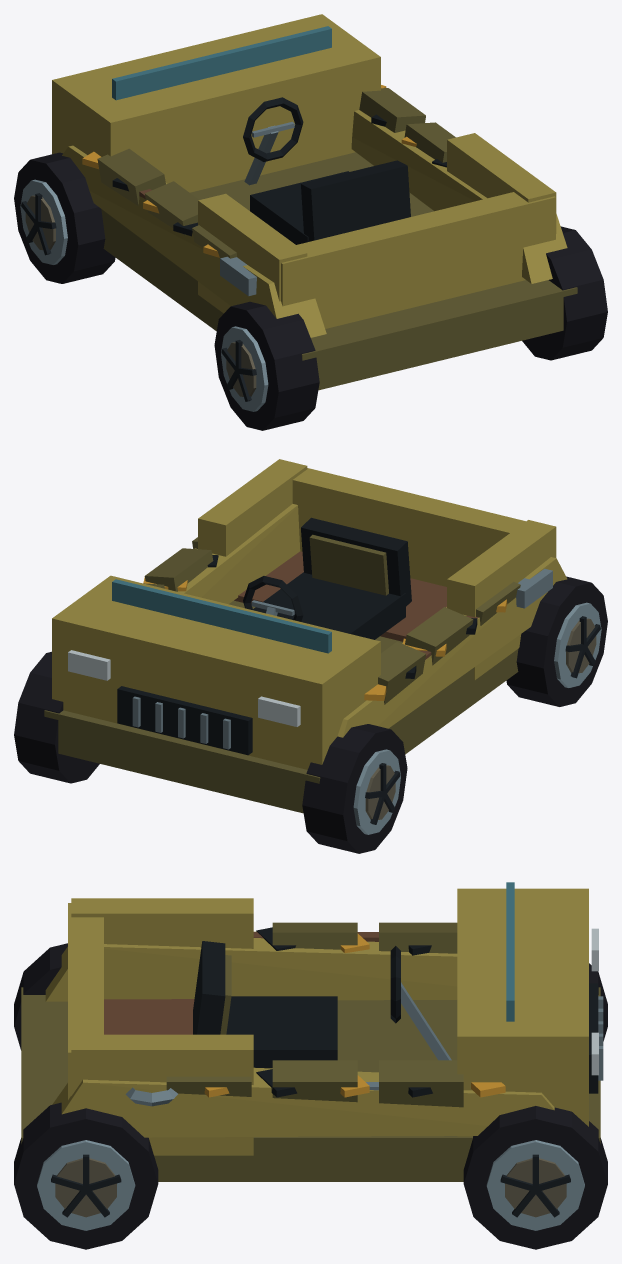
File: kart.glb
3 views of the same model, one above another, from view 1: azimuth 30°, elevation 25°; view 2: azimuth 150°, elevation 25°; view 3: azimuth 270°, elevation 25° (orthographic). The views are drawn at different scales.
Visible parts, largest first — view 1: identity-truck-truck-utility-body, identity-truck-driver-cockpit, wheel-rear-left, wheel-front-left, identity-truck-motif-armor, wheel-rear-right, identity-truck-motif-hazard-stripes, identity-truck-motif-tools; view 2: identity-truck-truck-utility-body, identity-truck-driver-cockpit, wheel-front-left, wheel-rear-left, identity-truck-motif-armor, wheel-front-right, identity-truck-motif-hazard-stripes, identity-truck-motif-tools; view 3: identity-truck-truck-utility-body, wheel-front-right, wheel-rear-right, identity-truck-motif-armor, identity-truck-driver-cockpit, identity-truck-motif-hazard-stripes, wheel-rear-left, identity-truck-motif-tools.
Boxes of the visible parts, x1,y1,x2,y2 form: identity-truck-truck-utility-body: [52, 14, 577, 390]; identity-truck-driver-cockpit: [243, 97, 410, 244]; wheel-rear-left: [214, 301, 319, 430]; wheel-front-left: [14, 152, 115, 283]; identity-truck-motif-armor: [97, 88, 455, 258]; wheel-rear-right: [522, 226, 607, 360]; identity-truck-motif-hazard-stripes: [82, 85, 446, 257]; identity-truck-motif-tools: [139, 189, 256, 296]; identity-truck-truck-utility-body: [44, 459, 567, 813]; identity-truck-driver-cockpit: [243, 517, 411, 639]; wheel-front-left: [302, 724, 407, 853]; wheel-rear-left: [506, 576, 607, 706]; identity-truck-motif-armor: [143, 537, 520, 704]; wheel-front-right: [14, 651, 99, 783]; identity-truck-motif-hazard-stripes: [143, 555, 507, 700]; identity-truck-motif-tools: [419, 568, 552, 659]; identity-truck-truck-utility-body: [21, 882, 603, 1181]; wheel-front-right: [463, 1106, 607, 1249]; wheel-rear-right: [14, 1102, 158, 1249]; identity-truck-motif-armor: [166, 922, 463, 1107]; identity-truck-driver-cockpit: [193, 941, 451, 1068]; identity-truck-motif-hazard-stripes: [204, 927, 505, 1097]; wheel-rear-left: [14, 943, 67, 1050]; identity-truck-motif-tools: [125, 932, 378, 1106].
Bounding box in the file's own units: 2.13 × 1.13 × 2.8.
